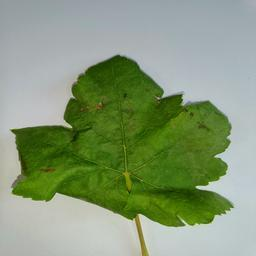Powdery-Mildew: (195, 119, 212, 136), (78, 82, 94, 99), (91, 101, 108, 117), (41, 160, 57, 177)
